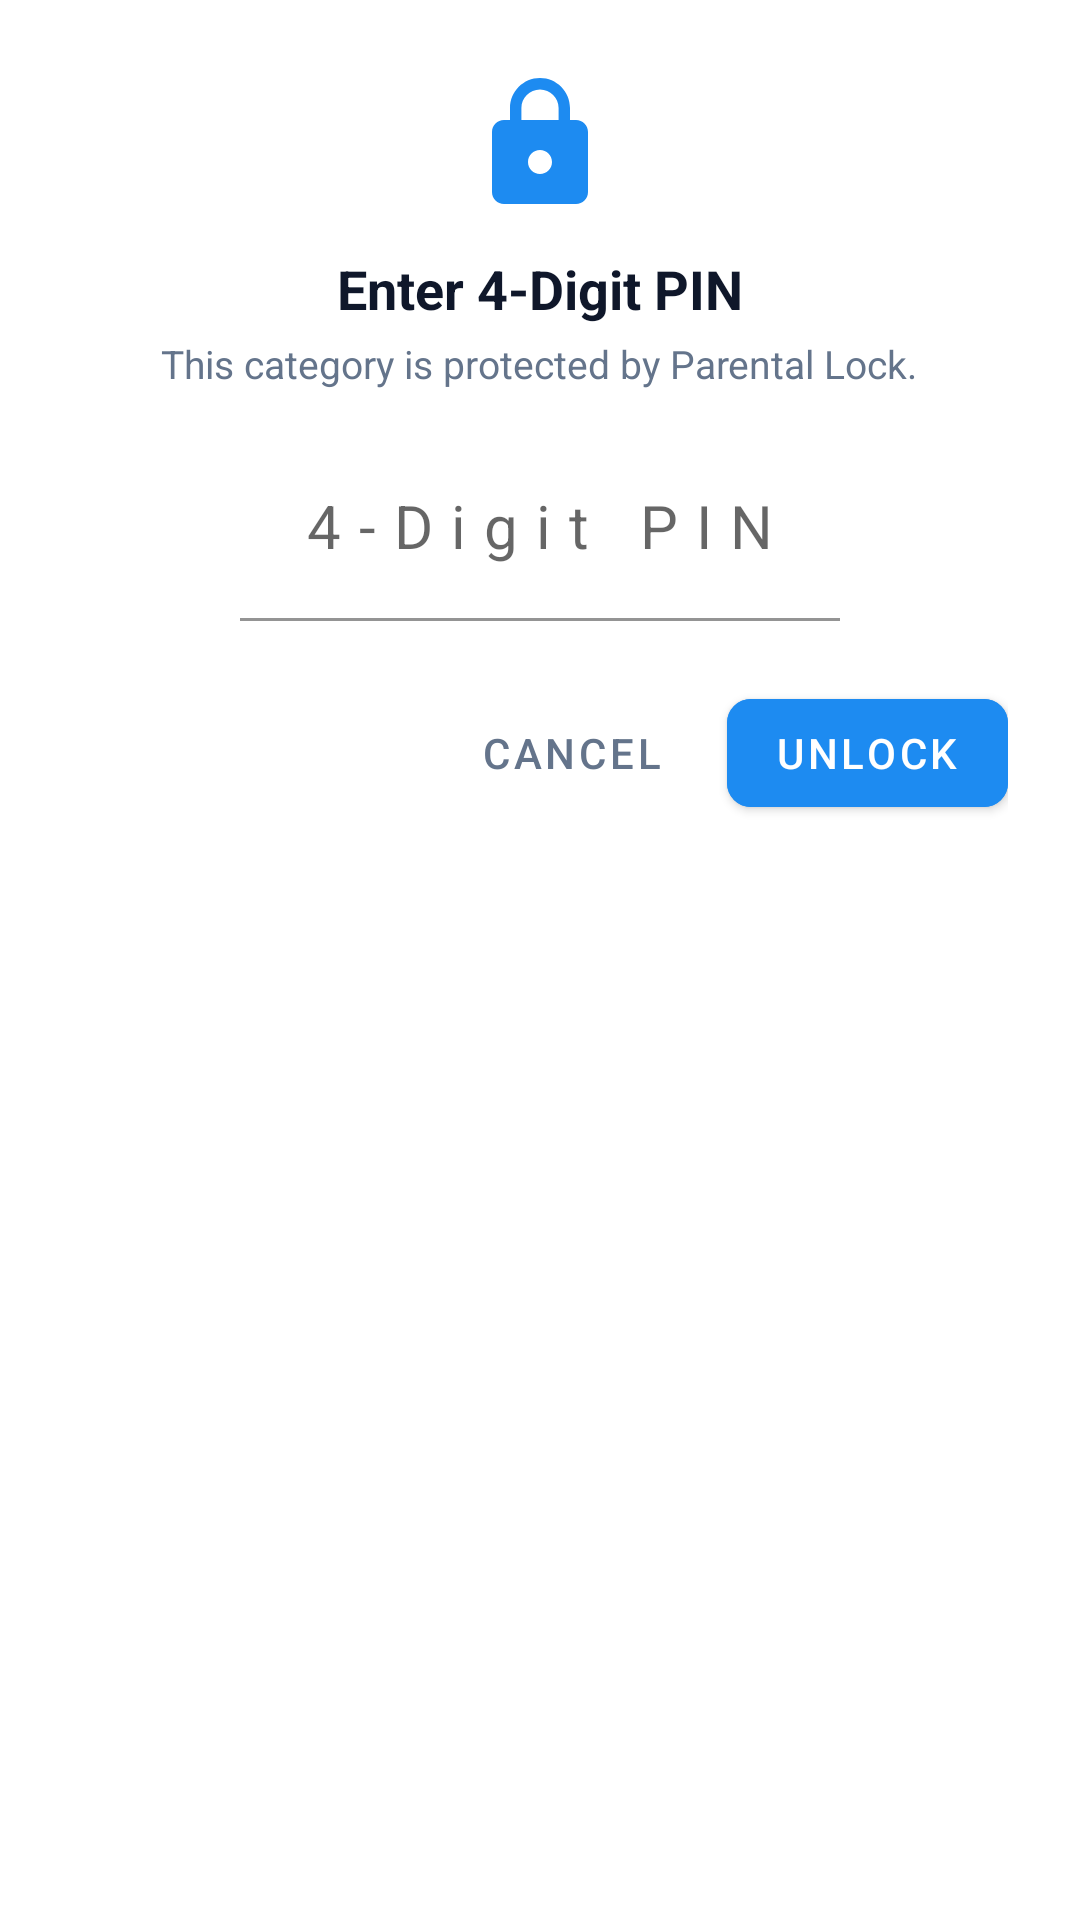

Icons on this 1080x1920 Android screen, each with the point to tap as (x=x, y=y):
Parental Control: (x=540, y=141)
